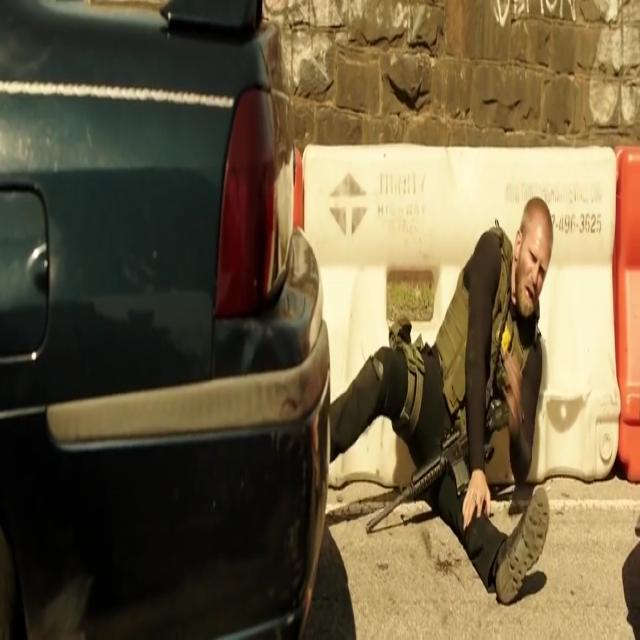Weapon: (364, 393, 513, 590)
